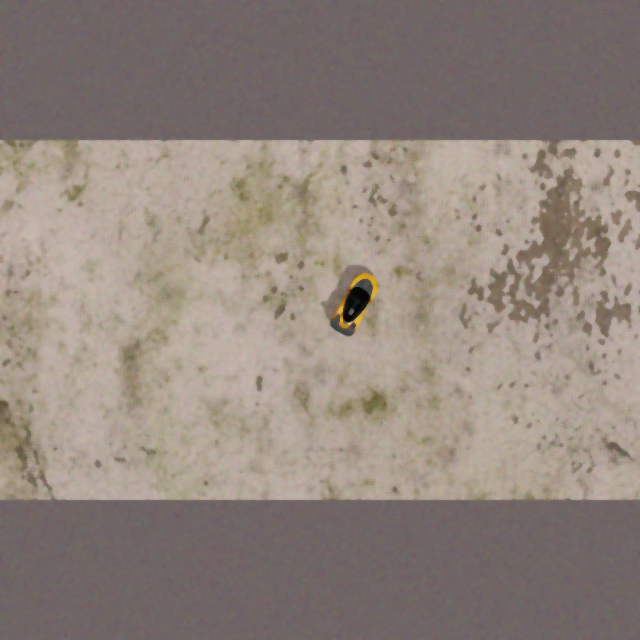car: (326, 266, 386, 340)
